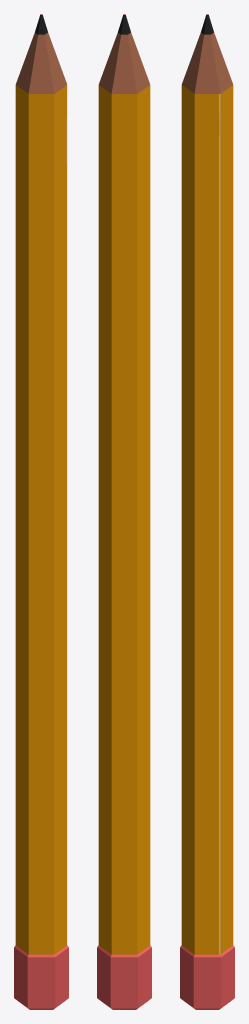
Rendered from Pencil.fbx.
3 views of the same model, side by side, from view 1: azimuth 30°, elevation 25°; view 2: azimuth 210°, elevation 25°; view 3: azimuth 330°, elevation 25° (orthographic).
Parts seen in each view (by area): view 1: Lapiz; view 2: Lapiz; view 3: Lapiz.
Boxes of the visible parts, x1=… form: Lapiz: x1=14, y1=14, x2=68, y2=1009; Lapiz: x1=97, y1=14, x2=151, y2=1009; Lapiz: x1=180, y1=14, x2=234, y2=1009.
Size of the model in its own units: 20.11 by 462 by 23.22.
